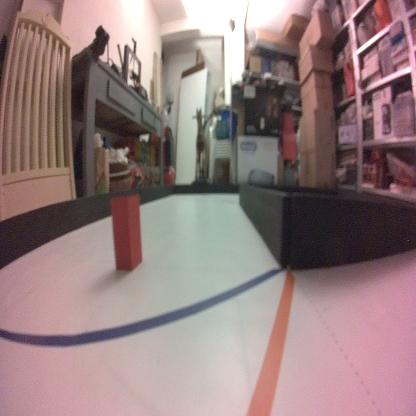red: (110, 193, 143, 274)
